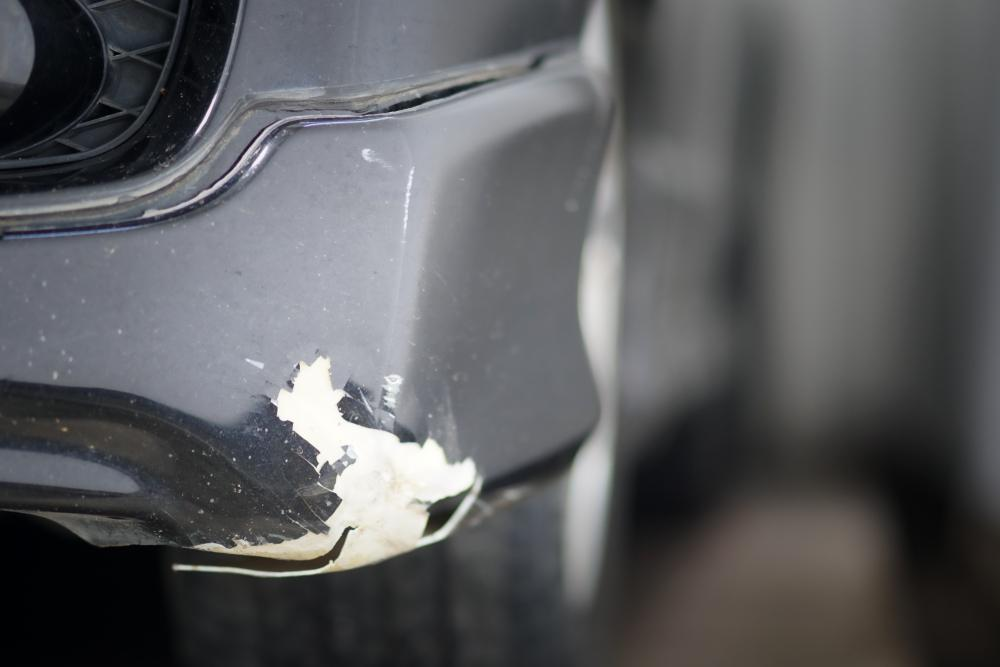crack: (172, 524, 352, 576)
scratch: (193, 350, 489, 564)
